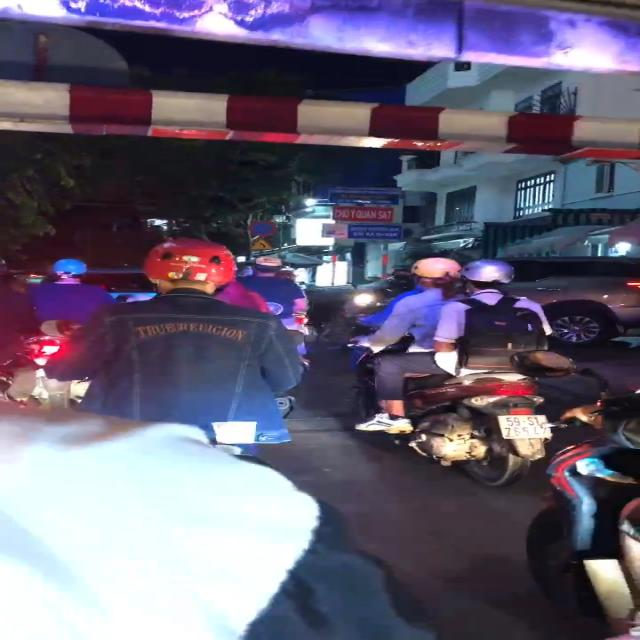Bien bao cho ngoat nguy hiem: (249, 238, 276, 251)
